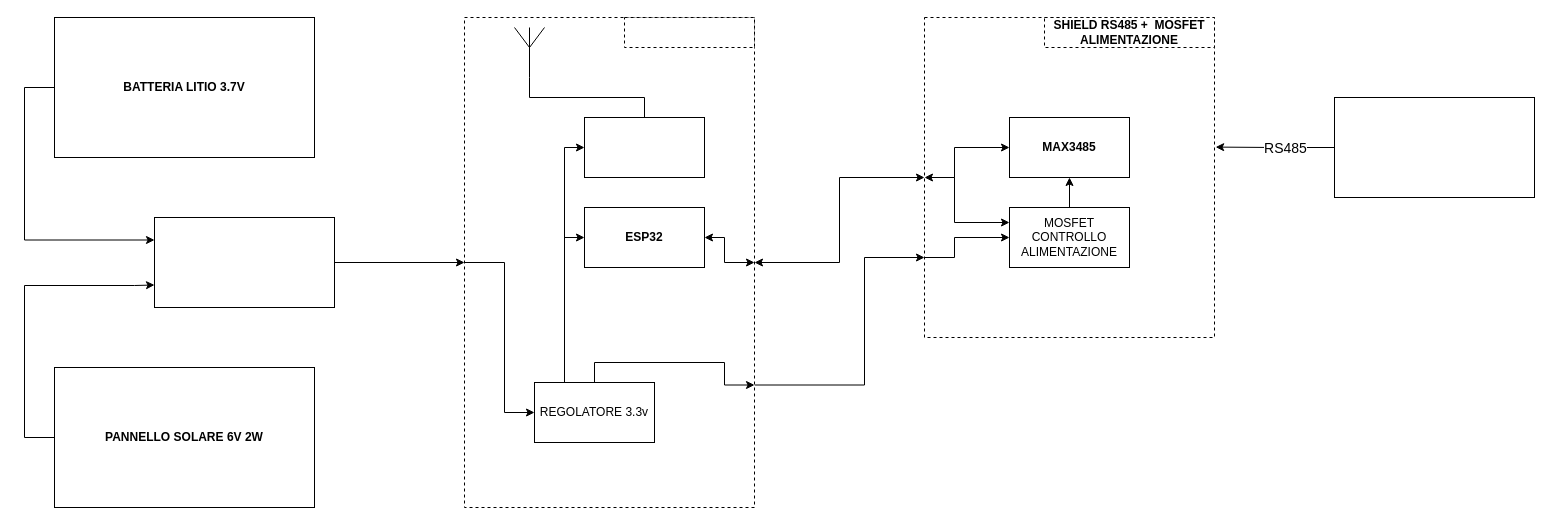
This 1552x525 diagram has some shape labels left out. The shapes that lost their labels are listed below. From the top down, each one's centre as x and y in pixels, then its label:
point (689, 32): PCB ESP32 + LORA
point (644, 147): LORA E32-868 1W
point (1434, 147): SONDA EC + T + H
point (244, 262): MODULO SOLARE CN3791
